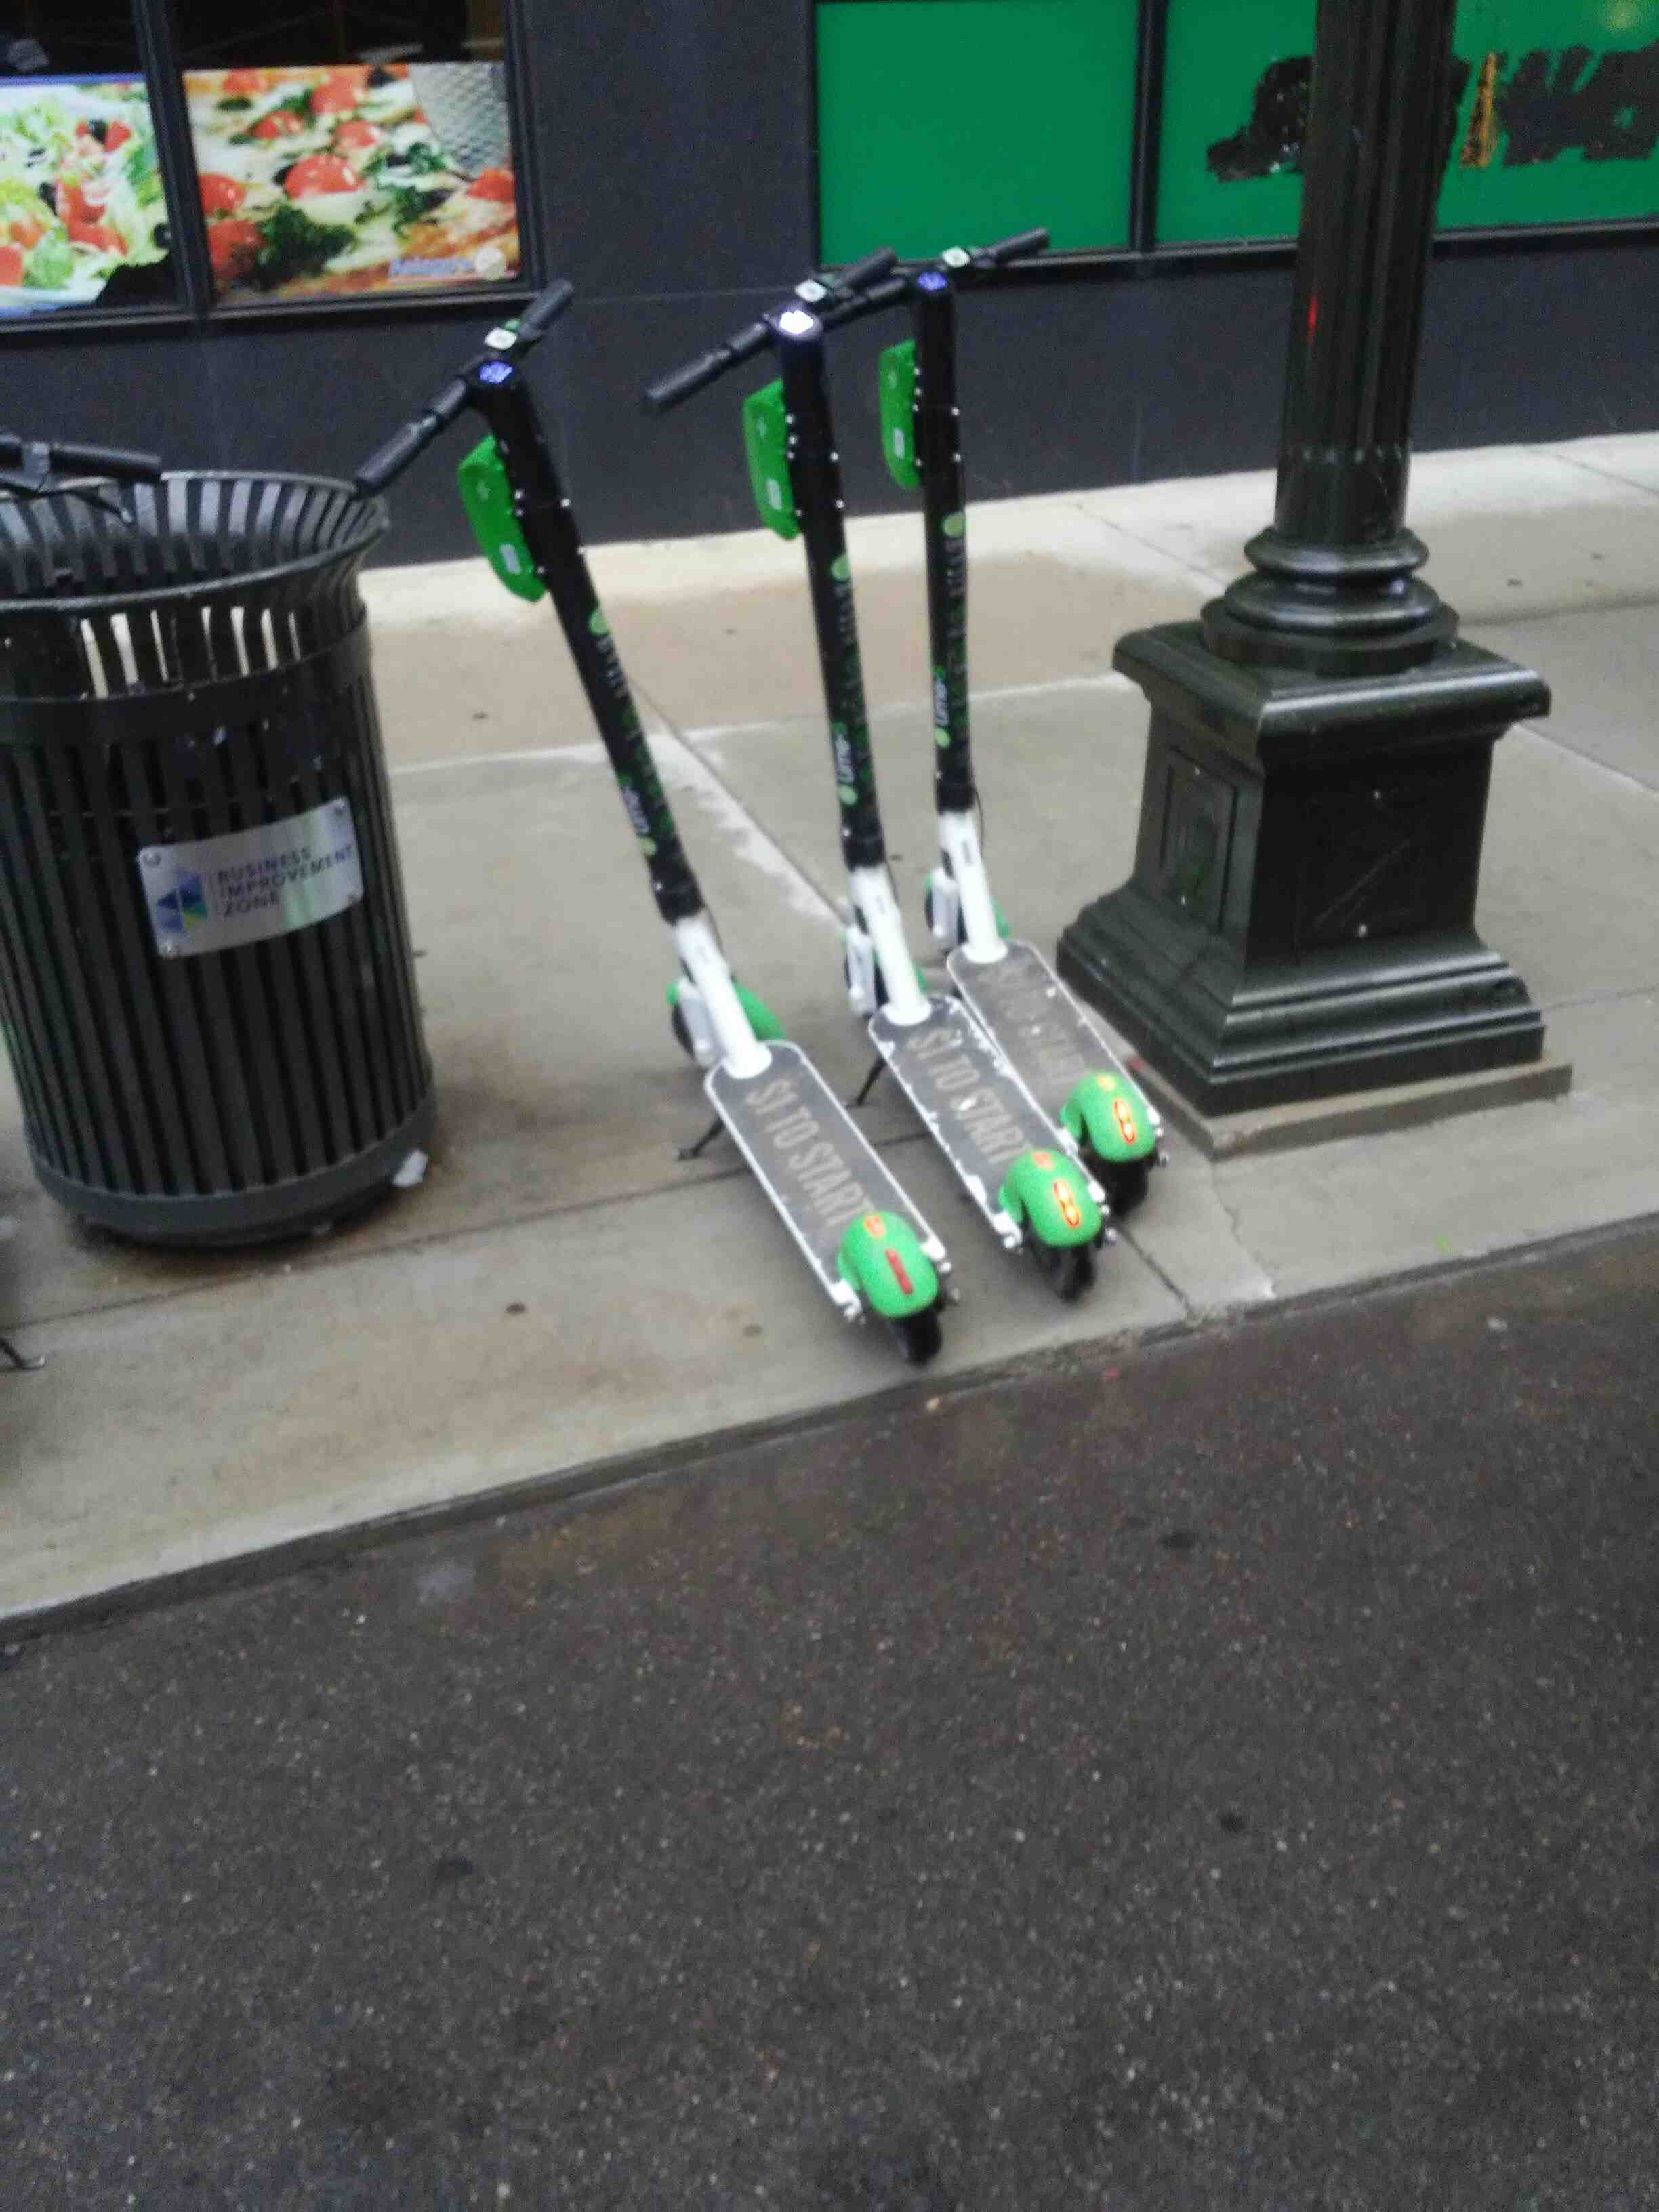too close: (967, 1134, 1204, 1439), (749, 1247, 1012, 1503)
